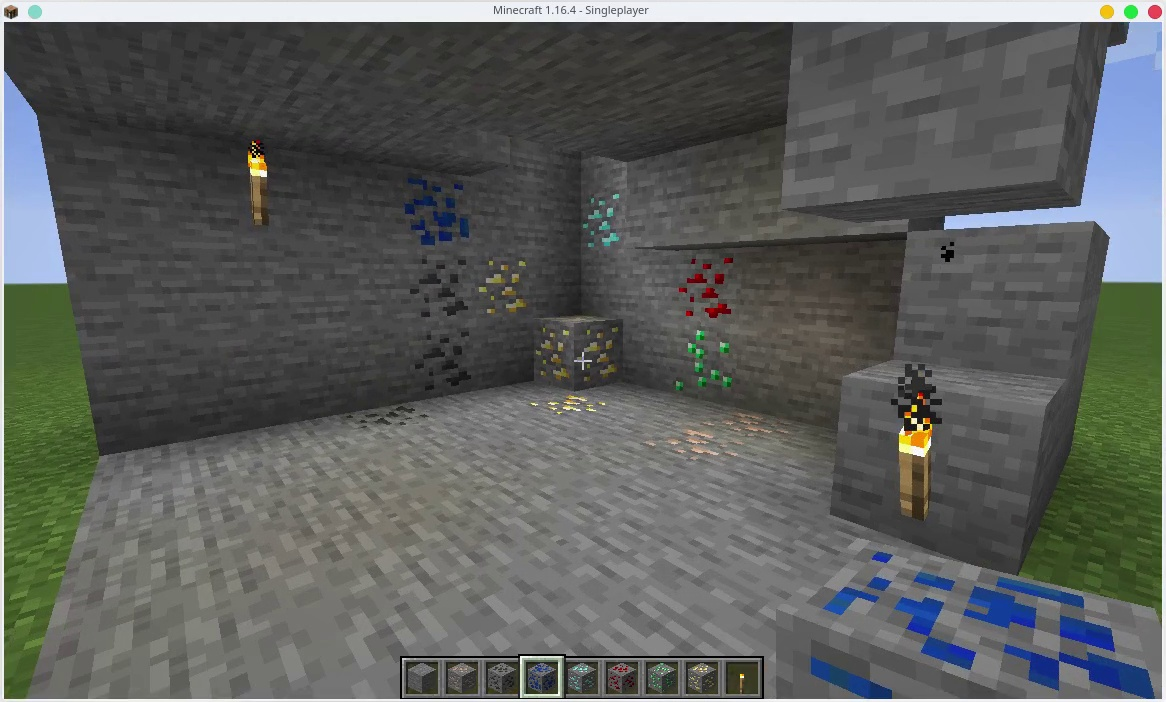gold: (532, 314, 623, 381), (470, 254, 530, 313), (526, 393, 612, 414), (687, 664, 716, 689)
